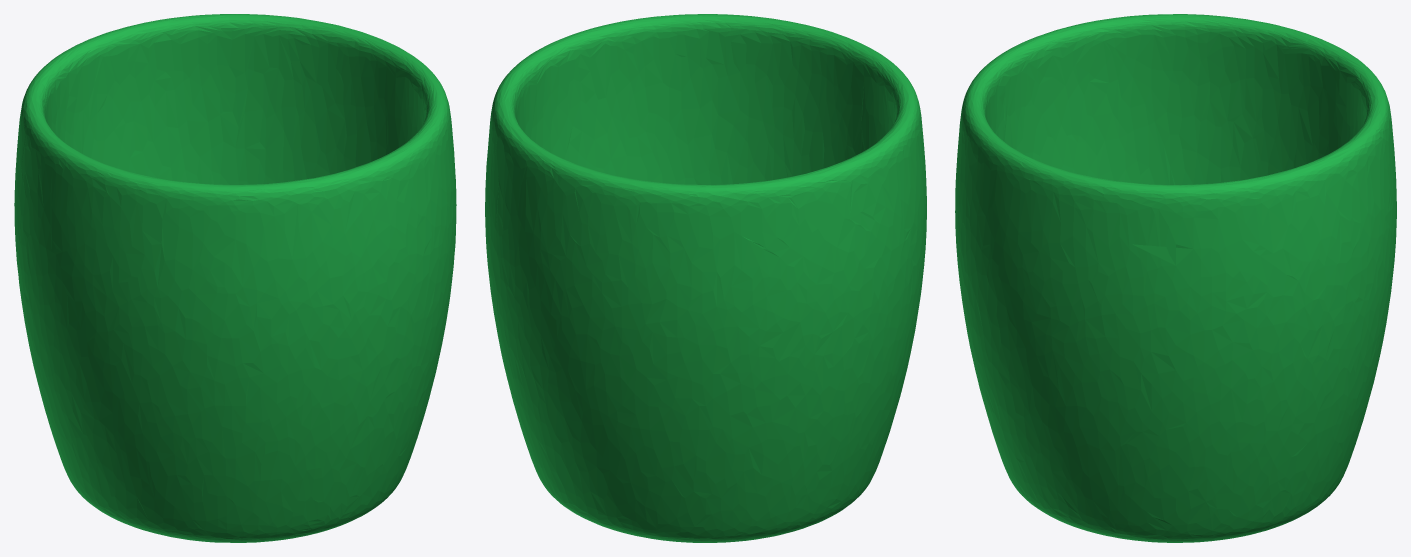
File: cup_gazebo.dae
3 renders of one model, left to right at view 1: azimuth 30°, elevation 25°; view 2: azimuth 150°, elevation 25°; view 3: azimuth 270°, elevation 25°, orthographic.
Parts seen in each view (by area): view 1: node_id30; view 2: node_id30; view 3: node_id30.
Boxes of the visible parts, bbox=[...] form: node_id30: bbox=[14, 14, 456, 542]; node_id30: bbox=[485, 14, 926, 542]; node_id30: bbox=[955, 14, 1396, 542].
Bounding box in the file's own units: 0.8804 × 0.8804 × 0.8391.
Materials: 1 (1 with a texture image).
